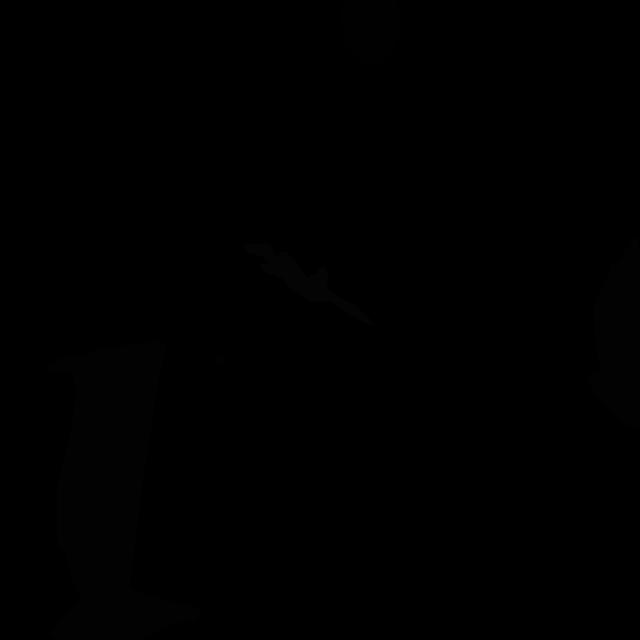cardboard: (43, 340, 204, 640), (586, 234, 640, 431), (210, 354, 226, 366)
rigid_plastic: (340, 0, 400, 65)
soft_plastic: (244, 243, 376, 326)
